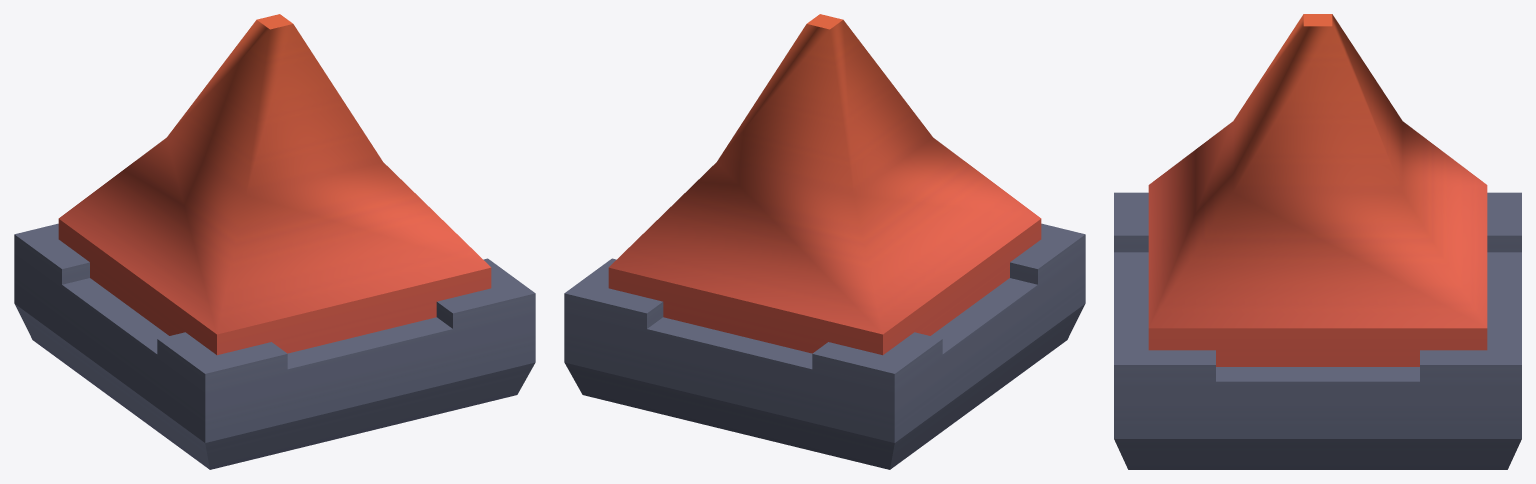
The model's file is tower-square-top-roof.fbx.
3 renders of one model, left to right at view 1: azimuth 30°, elevation 25°; view 2: azimuth 150°, elevation 25°; view 3: azimuth 270°, elevation 25°, orthographic. The views are drawn at different scales.
Parts seen in each view (by area): view 1: tower-square-top-roof; view 2: tower-square-top-roof; view 3: tower-square-top-roof.
Boxes of the visible parts, bbox=[...] form: tower-square-top-roof: bbox=[14, 14, 535, 469]; tower-square-top-roof: bbox=[564, 14, 1085, 469]; tower-square-top-roof: bbox=[1114, 14, 1521, 469].
Bounding box in the file's own units: 1 × 1 × 1.
